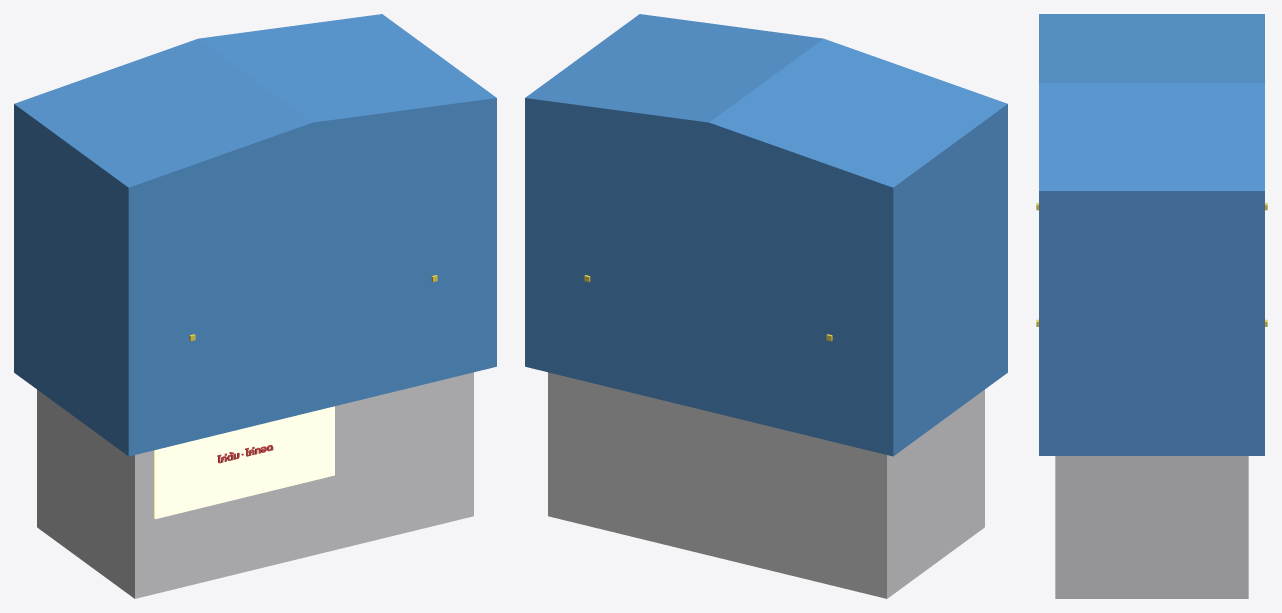
Rendered from SM_ChickenRiceStall.fbx.
3 renders of one model, left to right at view 1: azimuth 30°, elevation 25°; view 2: azimuth 150°, elevation 25°; view 3: azimuth 270°, elevation 25°, orthographic.
Visible parts, largest first — view 1: Stall_Tarp, Stall_Body; view 2: Stall_Tarp, Stall_Body; view 3: Stall_Tarp, Stall_Body.
Boxes of the visible parts, bbox=[...] form: Stall_Tarp: bbox=[14, 14, 496, 456]; Stall_Body: bbox=[37, 372, 473, 598]; Stall_Tarp: bbox=[525, 14, 1007, 456]; Stall_Body: bbox=[548, 372, 984, 598]; Stall_Tarp: bbox=[1036, 14, 1267, 455]; Stall_Body: bbox=[1053, 456, 1248, 598].
Bounding box in the file's own units: 1.52 × 1.74 × 0.84.
